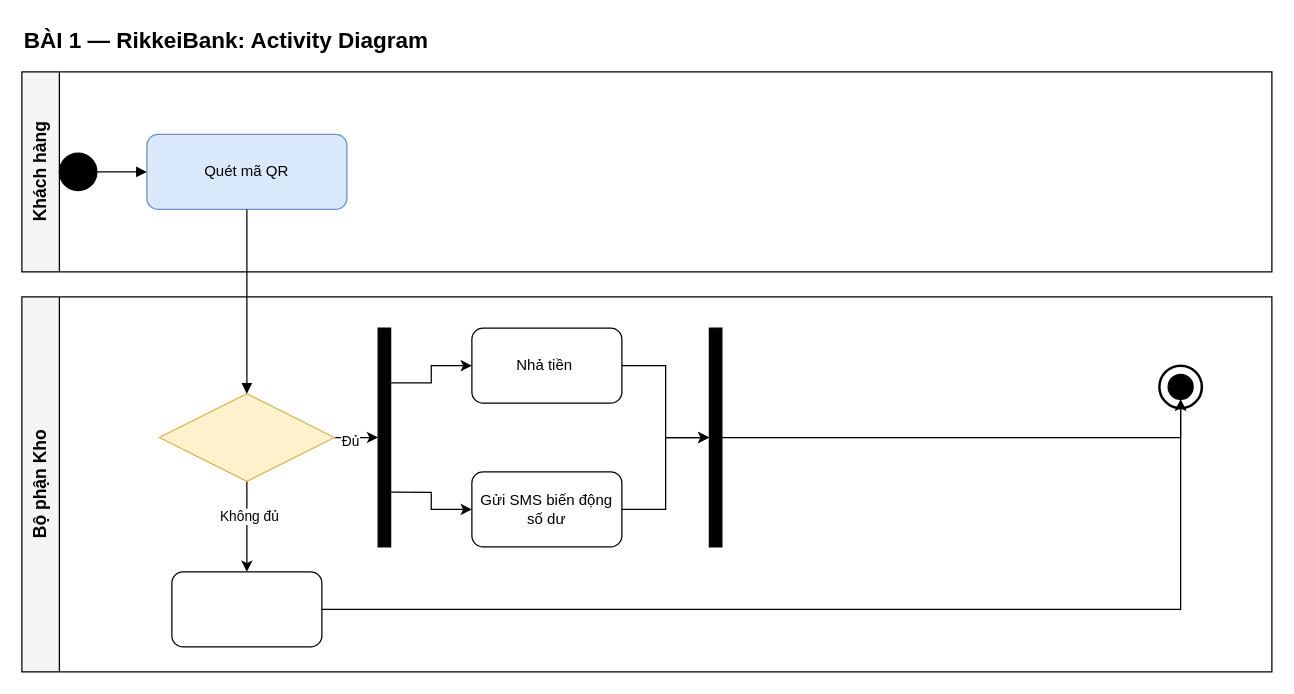
Some shapes in this 1294 by 694 pixel diagram are drawn without their labels. Each missing label, with the centre of its shape:
Hiển thị lỗi: the point at 246,609
Kiểm tra số dư: the point at 246,436
